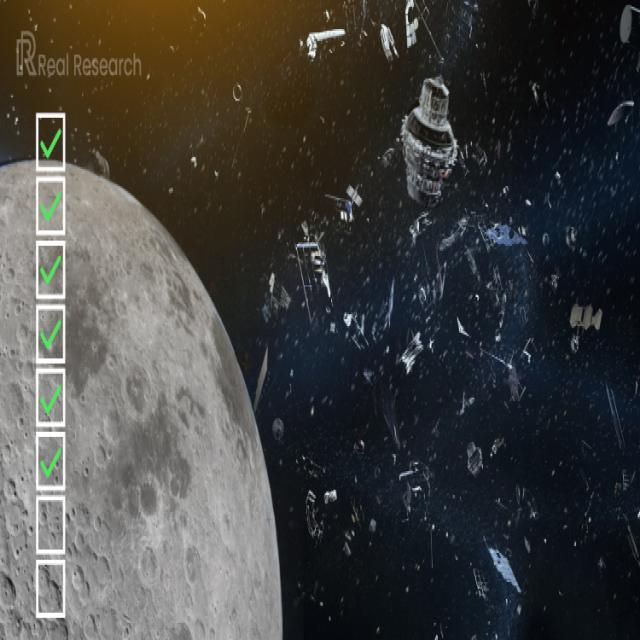large_debris: (393, 62, 461, 221), (290, 216, 338, 326), (482, 528, 525, 604), (302, 21, 352, 73), (255, 263, 291, 333), (566, 296, 606, 359), (605, 85, 637, 143), (620, 0, 639, 61), (463, 437, 487, 484)
